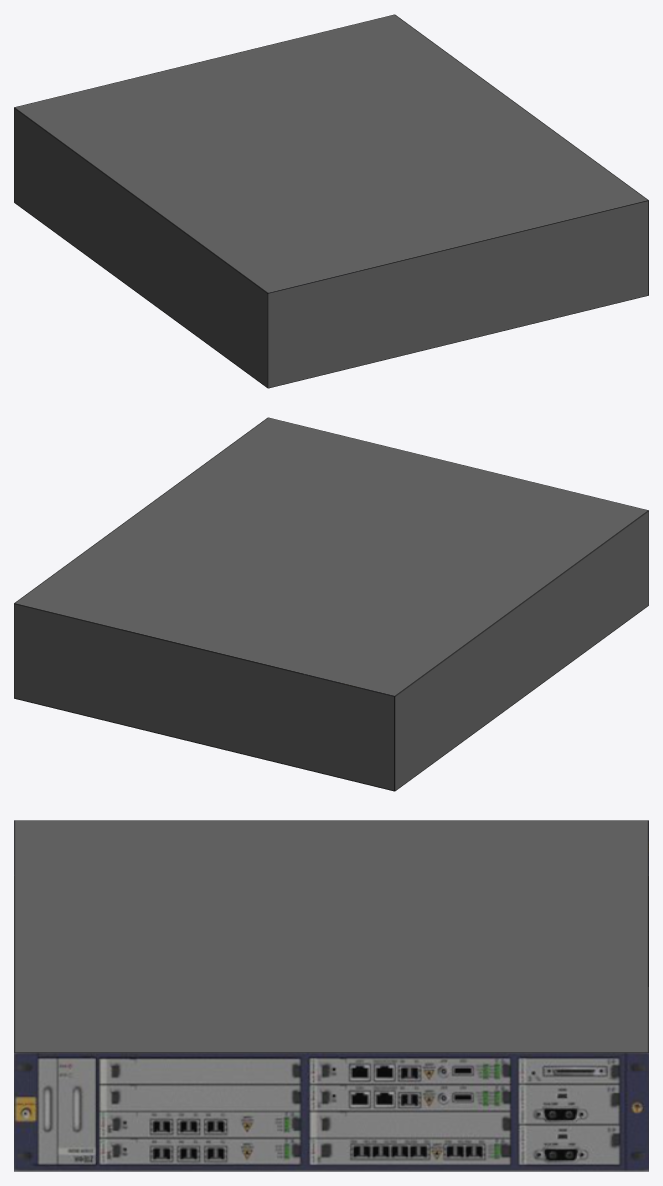
Rendered from BBU.glb.
3 renders of one model, top to bottom at view 1: azimuth 30°, elevation 25°; view 2: azimuth 150°, elevation 25°; view 3: azimuth 270°, elevation 25°, orthographic. The views are drawn at different scales.
Visible parts, largest first — view 1: Cube; view 2: Cube; view 3: Cube.
Boxes of the visible parts, box(x1,y1,x2,y2) form: Cube: box(14, 14, 648, 388); Cube: box(14, 417, 648, 791); Cube: box(14, 820, 648, 1171).
Bounding box in the file's own units: 2.5 × 0.597 × 2.88.
1 material, 1 textured.
